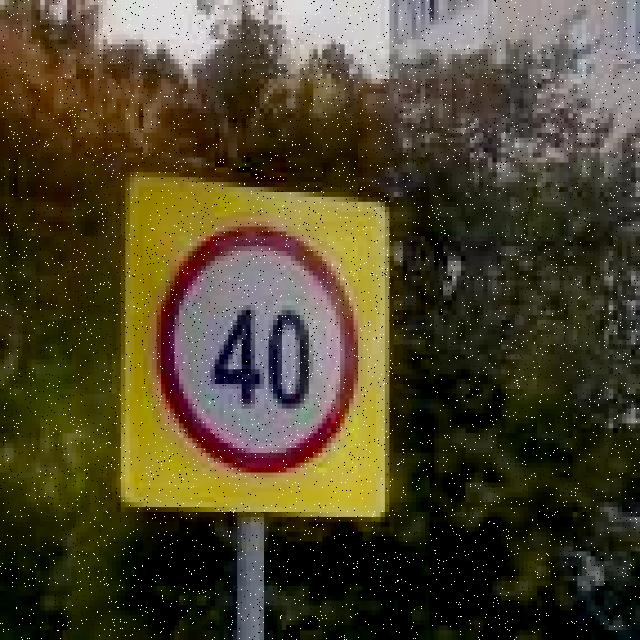Ograniczenie predkosci do 40: (156, 222, 358, 472)
